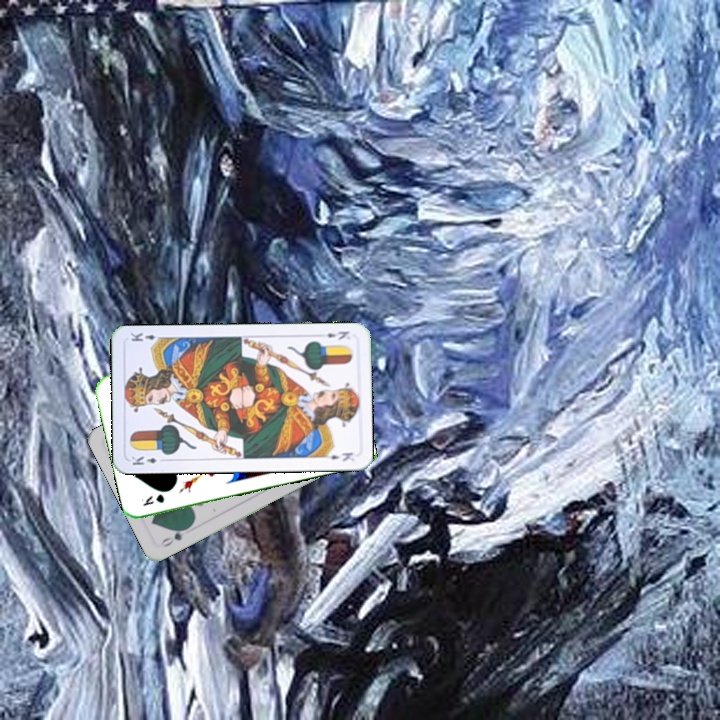EK: (127, 452, 168, 468), (323, 327, 352, 342)
GK: (139, 490, 167, 509)
GO: (156, 522, 193, 550)
